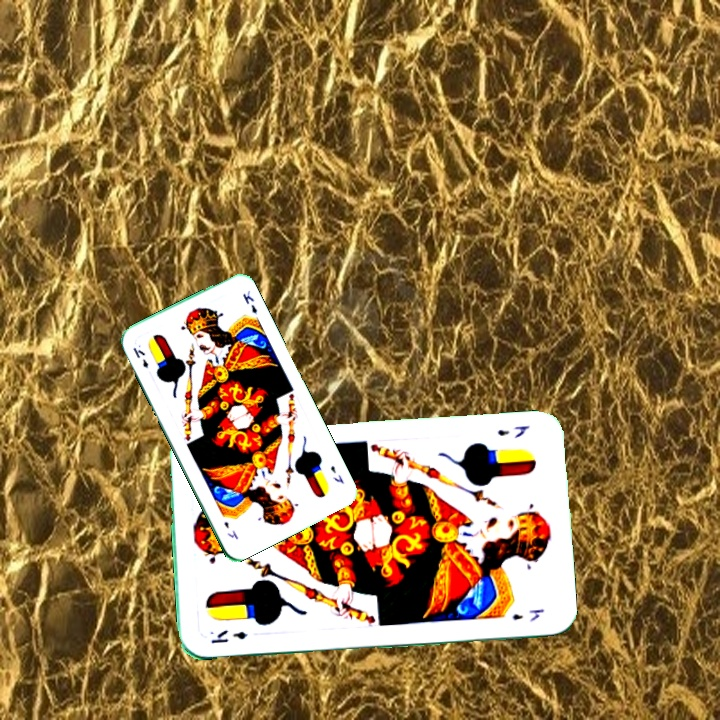EK: (208, 625, 250, 646), (493, 422, 532, 441), (129, 343, 151, 371), (326, 461, 346, 487)
